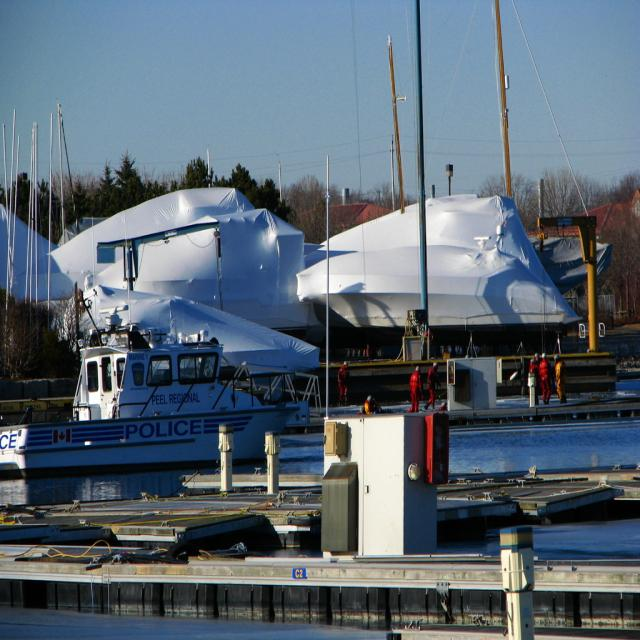Boat: (278, 54, 599, 412), (0, 306, 313, 483)
